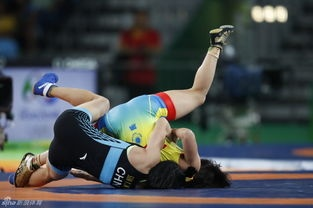falling: (16, 31, 235, 175)
